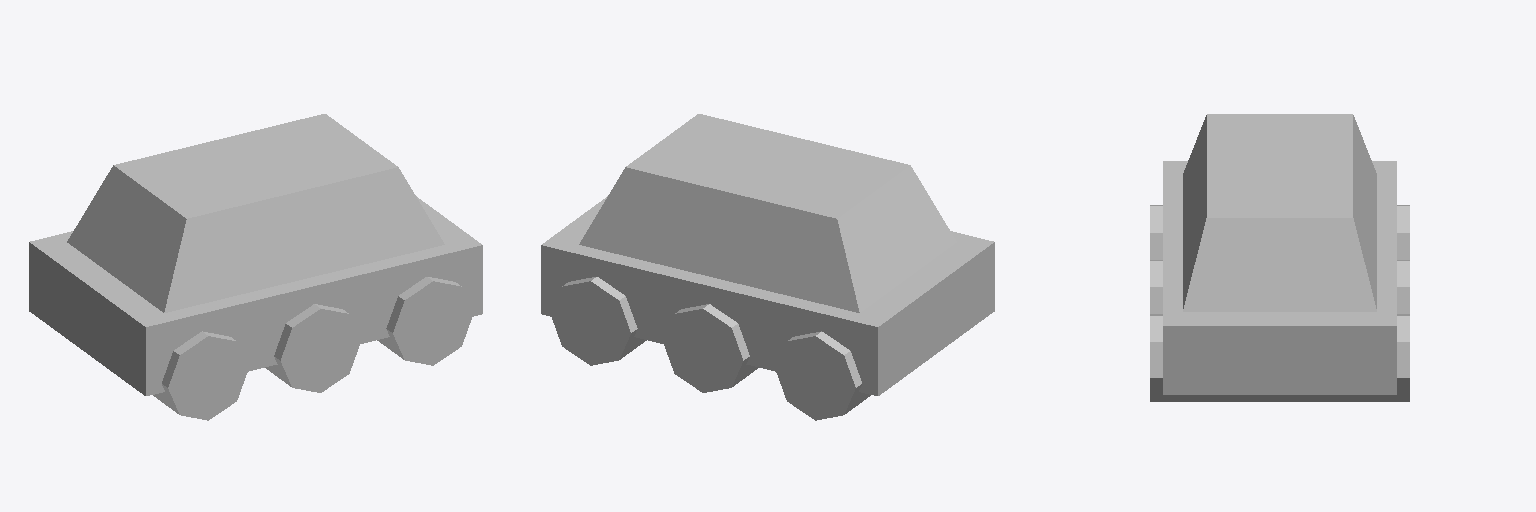
Rendered from car7.obj.
3 renders of one model, left to right at view 1: azimuth 30°, elevation 25°; view 2: azimuth 150°, elevation 25°; view 3: azimuth 270°, elevation 25°, orthographic.
Parts seen in each view (by area): view 1: Cube.007_Cube.006, Cylinder.001; view 2: Cube.007_Cube.006, Cylinder.001; view 3: Cube.007_Cube.006, Cylinder.001.
Boxes of the visible parts, x1,y1,x2,y2 form: Cube.007_Cube.006: [29, 114, 482, 395]; Cylinder.001: [153, 277, 473, 420]; Cube.007_Cube.006: [541, 114, 994, 395]; Cylinder.001: [550, 277, 870, 420]; Cube.007_Cube.006: [1163, 114, 1396, 394]; Cylinder.001: [1150, 205, 1409, 401].
Size of the model in its own units: 3 by 1.53 by 2.